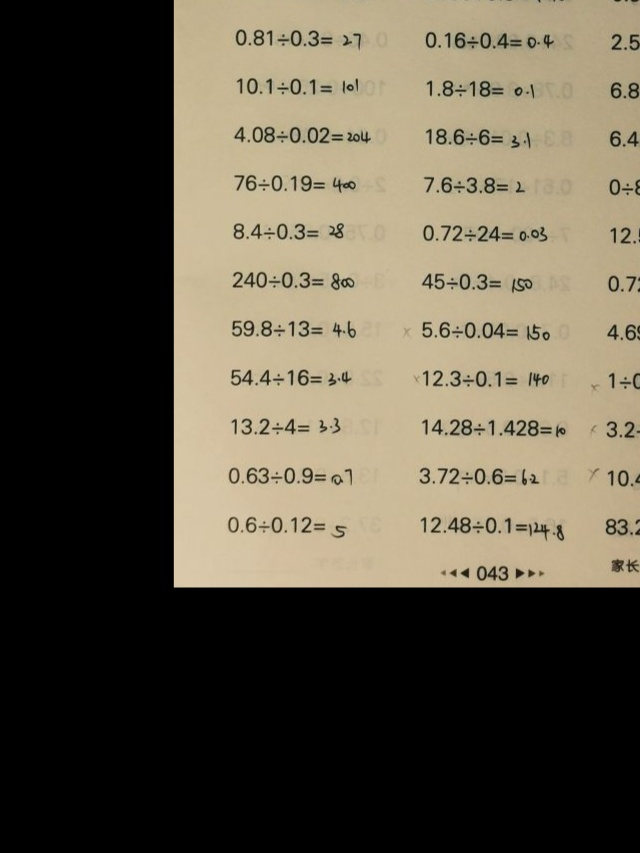equation: (416, 512, 568, 541), (420, 417, 571, 442), (223, 511, 350, 540), (230, 122, 374, 146), (417, 317, 554, 342), (230, 26, 365, 51), (224, 463, 356, 488), (227, 316, 359, 341), (420, 28, 557, 52), (228, 267, 358, 292), (229, 171, 359, 196), (419, 367, 554, 391), (415, 463, 542, 488), (418, 221, 550, 245), (234, 75, 363, 99), (227, 365, 354, 389), (417, 269, 536, 294), (421, 124, 534, 150), (422, 76, 538, 101), (229, 220, 349, 244), (227, 414, 343, 438), (420, 173, 528, 197), (588, 465, 640, 492), (600, 513, 640, 544), (600, 417, 640, 445), (599, 368, 640, 395), (605, 125, 640, 152), (604, 272, 640, 297), (607, 30, 640, 57), (606, 78, 640, 104), (604, 321, 640, 345), (606, 223, 640, 248), (605, 175, 640, 199), (608, 0, 640, 7)
